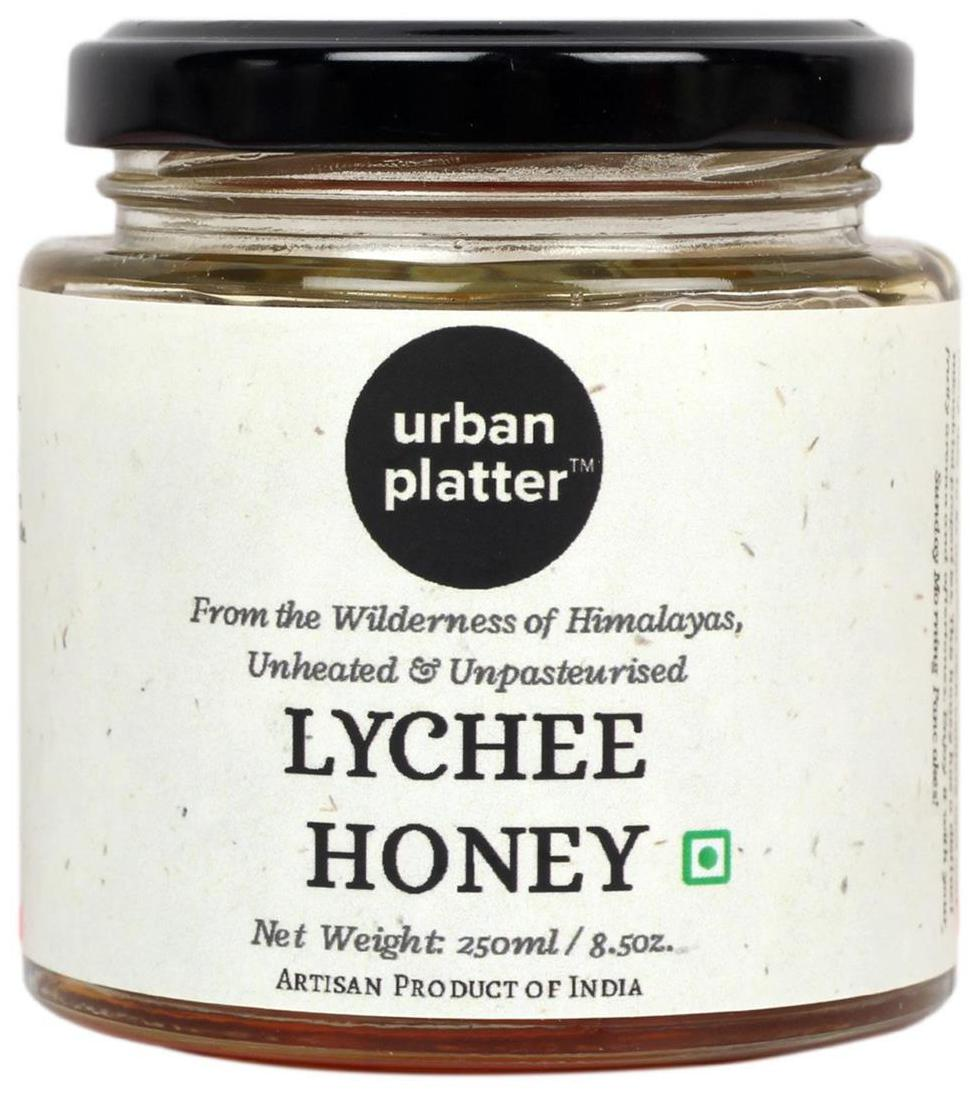JAR: (4, 6, 969, 1082)
